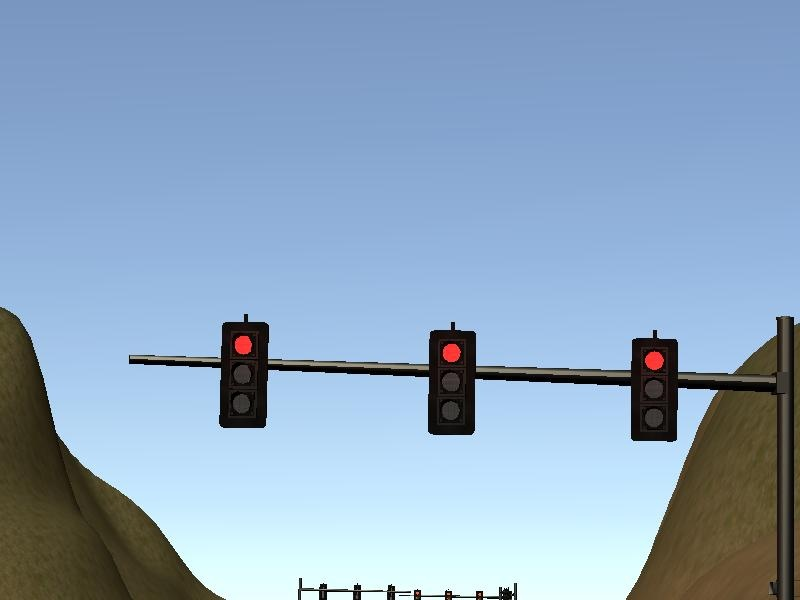RED: (218, 320, 269, 429), (425, 327, 476, 436), (630, 335, 681, 444)
